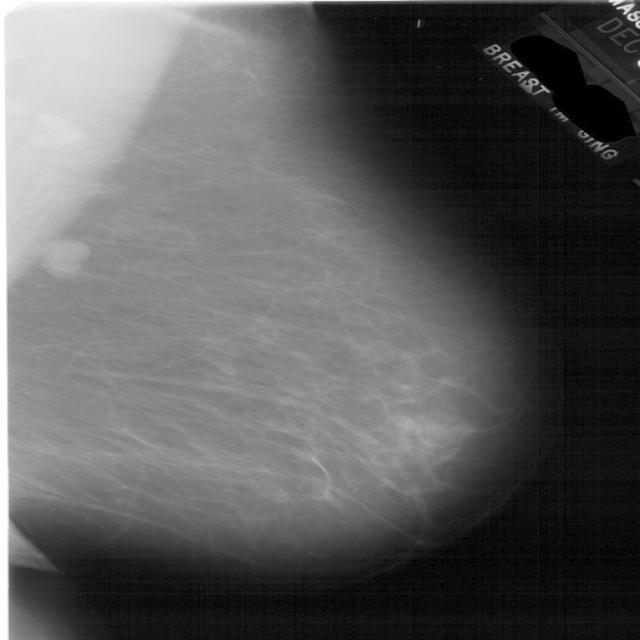tumour: (41, 240, 87, 274)
